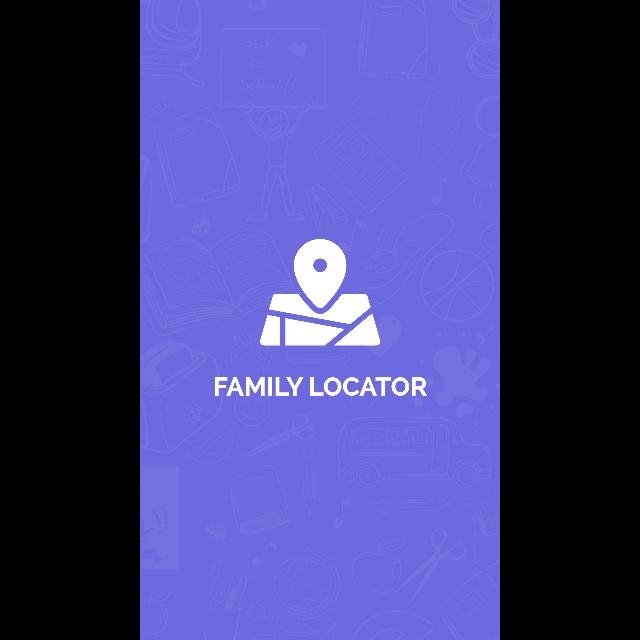backgroundimage: (140, 1, 500, 640)
image: (260, 240, 380, 346)
text: (215, 378, 428, 397)
